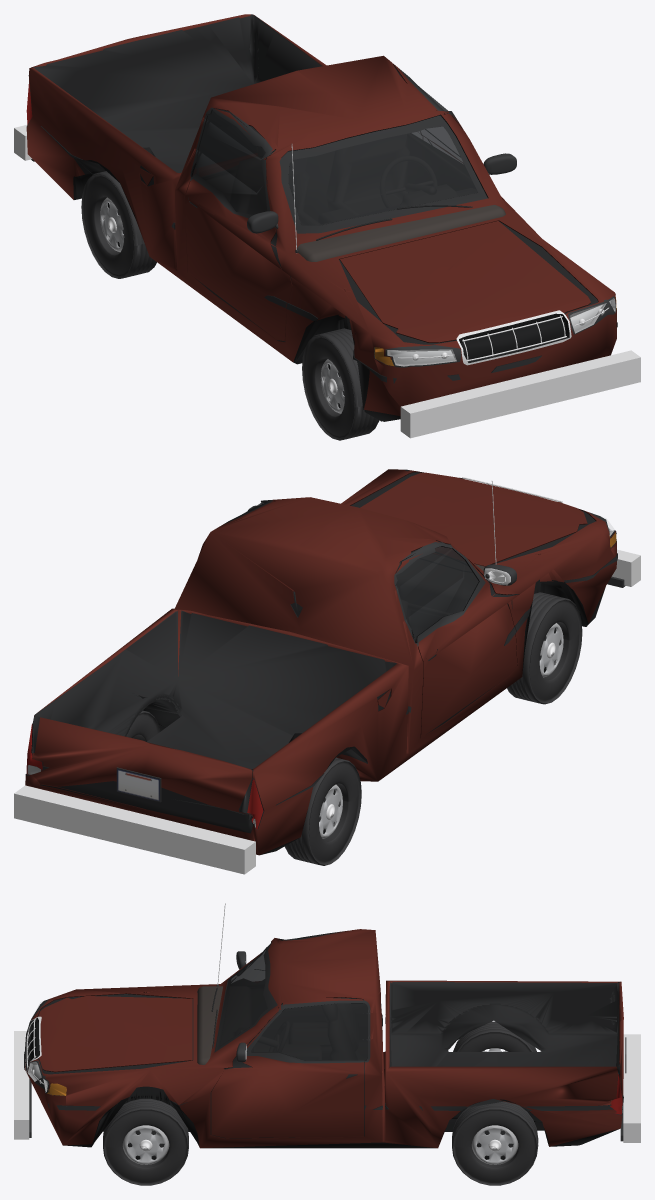
File: car_sedan_b.glb
3 views of the same model, one above another, from view 1: azimuth 30°, elevation 25°; view 2: azimuth 150°, elevation 25°; view 3: azimuth 270°, elevation 25° (orthographic). The views are drawn at different scales.
Visible parts, largest first — view 1: body, wheel_FR, wheel_RR; view 2: body, wheel_FR, wheel_RR, wheel_RL; view 3: body, wheel_FL, wheel_RL, wheel_RR.
Boxes of the visible parts, x1,y1,x2,y2 form: body: (14,14,640,438); wheel_FR: (302,328,379,440); wheel_RR: (81,171,156,278); body: (14,469,640,874); wheel_FR: (507,592,582,704); wheel_RR: (284,757,361,865); wheel_RL: (126,710,160,741); body: (14,903,640,1148); wheel_FL: (103,1098,188,1185); wheel_RL: (452,1101,538,1185); wheel_RR: (453,1021,536,1051).
Size of the model in its own units: 1.92 by 1.74 by 4.94.
12 materials, 1 textured.
